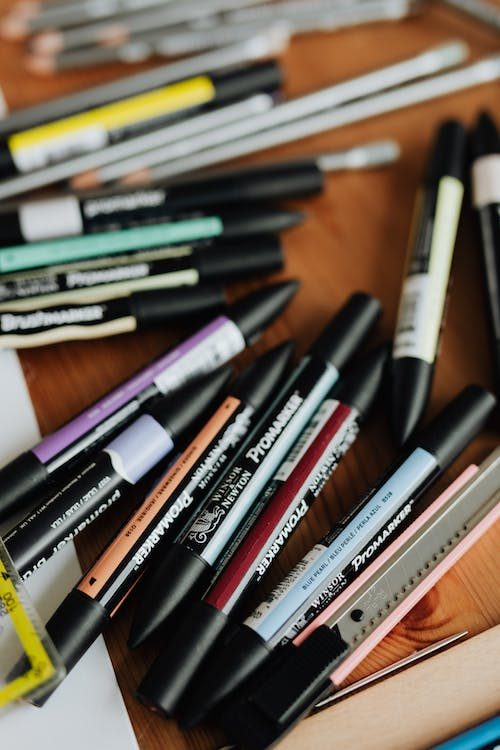knife: (175, 442, 500, 750)
